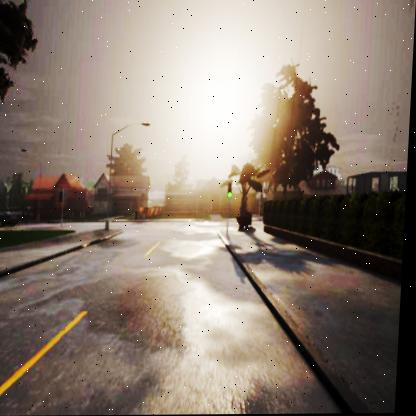vehicle: (0, 207, 22, 228)
